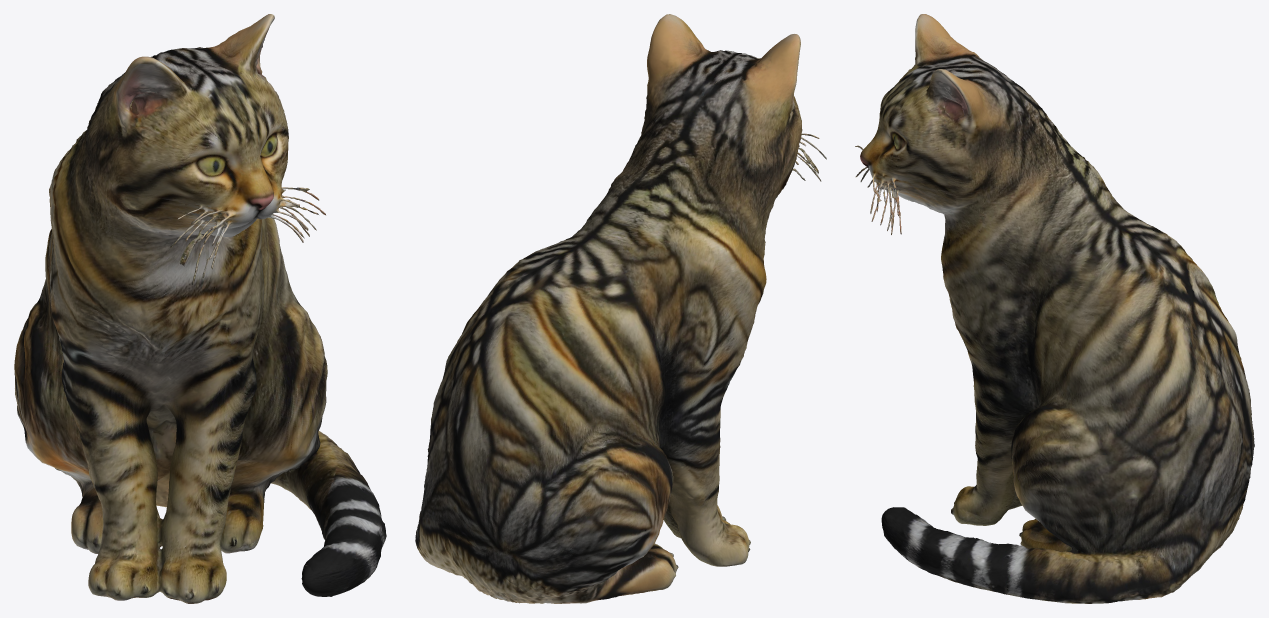
Rendered from bengal.glb.
3 renders of one model, left to right at view 1: azimuth 30°, elevation 25°; view 2: azimuth 150°, elevation 25°; view 3: azimuth 270°, elevation 25°, orthographic. The views are drawn at different scales.
Size of the model in its own units: 1.13 by 1.92 by 1.47.
1 material, 1 textured.
